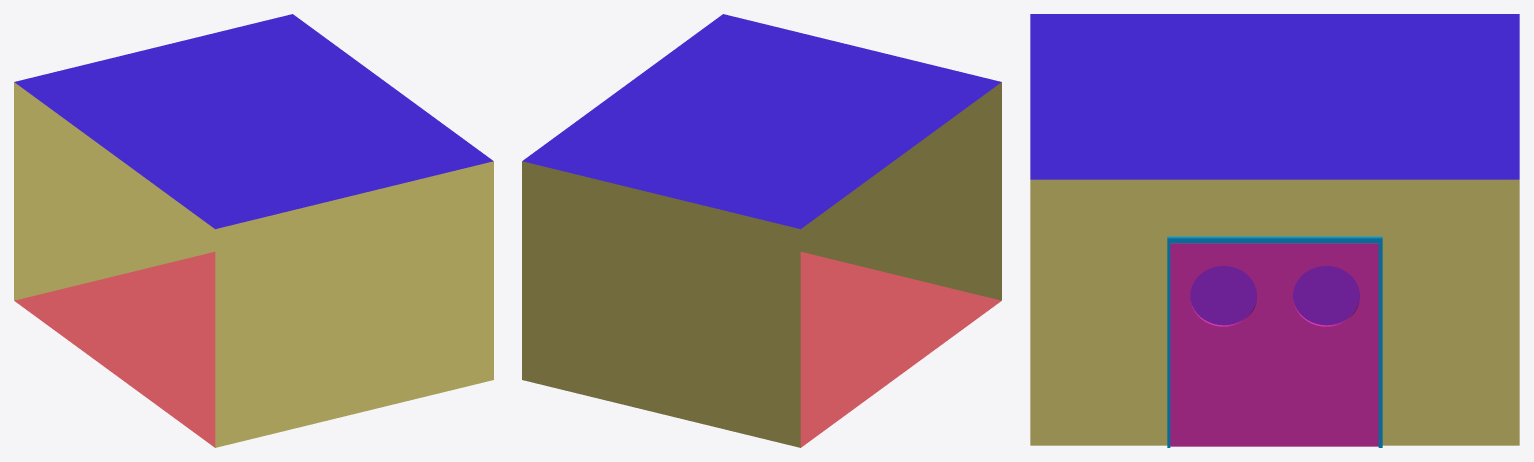
File: CorridoorEnd.fbx
The picture shows the model from 3 angles, left to right: view 1: azimuth 30°, elevation 25°; view 2: azimuth 150°, elevation 25°; view 3: azimuth 270°, elevation 25°; orthographic projection. The views are drawn at different scales.
Visible parts, largest first — view 1: wall2, roof, wall1, floor; view 2: wall1, roof, wall2, floor; view 3: wall3, roof, doorRight.001, doorLeft.001, doorframe.001, Window1, Window2.
Part boxes in pixels (box(x1,y1,x2,y2)): wall2: box(215, 161, 493, 447); roof: box(14, 14, 493, 229); wall1: box(14, 82, 215, 300); floor: box(14, 252, 215, 447); wall1: box(522, 161, 800, 447); roof: box(522, 14, 1001, 229); wall2: box(800, 82, 1001, 300); floor: box(800, 252, 1001, 447); wall3: box(1030, 179, 1519, 445); roof: box(1030, 14, 1519, 179); doorRight.001: box(1170, 243, 1274, 446); doorLeft.001: box(1275, 243, 1378, 446); doorframe.001: box(1167, 236, 1382, 447); Window1: box(1190, 266, 1256, 325); Window2: box(1293, 266, 1359, 325).
Bounding box in the file's own units: 808 × 601 × 1000.
